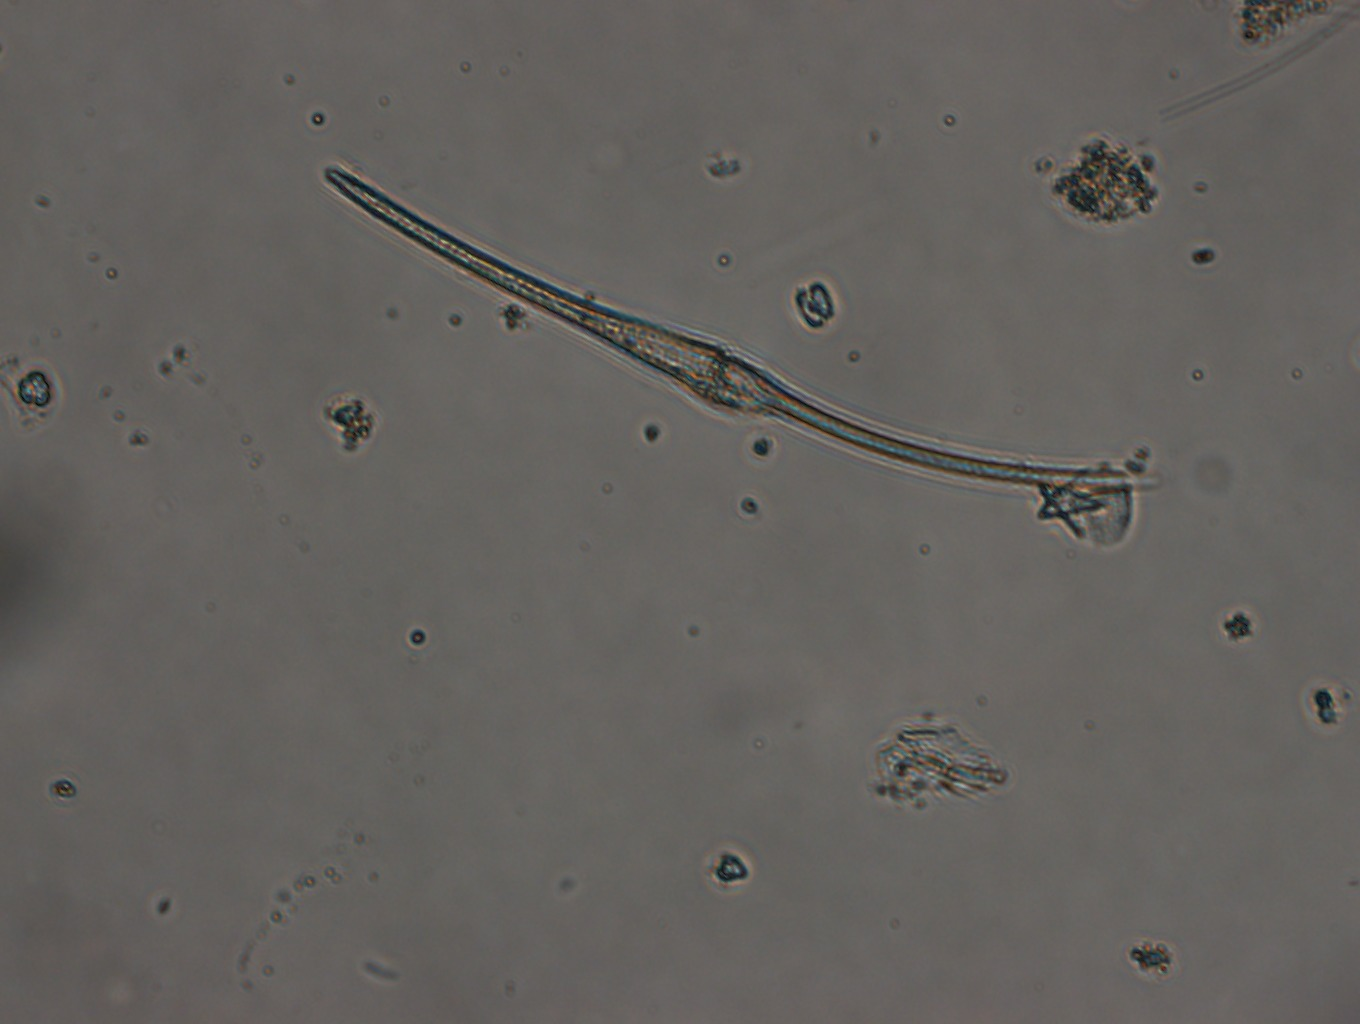ceratium furca: (319, 165, 1175, 497)
